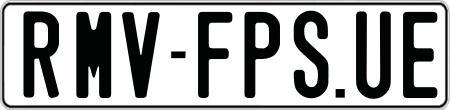E: (403, 10, 434, 97)
F: (195, 10, 235, 97)
M: (75, 9, 112, 97)
P: (242, 9, 282, 97)
R: (20, 10, 59, 102)
S: (292, 8, 331, 99)
U: (356, 8, 395, 98)
V: (121, 12, 165, 102)
